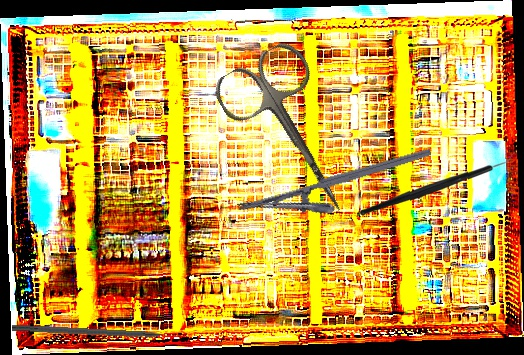Chopper: (360, 146, 518, 218)
Hook Surgical: (11, 324, 183, 342)
Iris Scissors: (208, 36, 380, 236)
Needle Holder: (236, 147, 440, 238)
